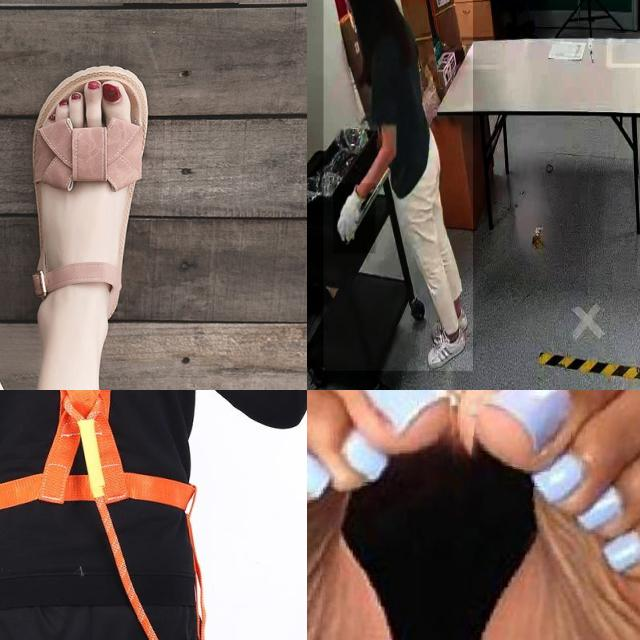Barefoots: (465, 390, 640, 640), (307, 390, 432, 640)
Harness: (0, 390, 197, 640)
Sandals: (0, 34, 228, 390)
hand_glove: (333, 183, 376, 254)
person: (323, 0, 473, 371)
shoes: (424, 328, 468, 374)
